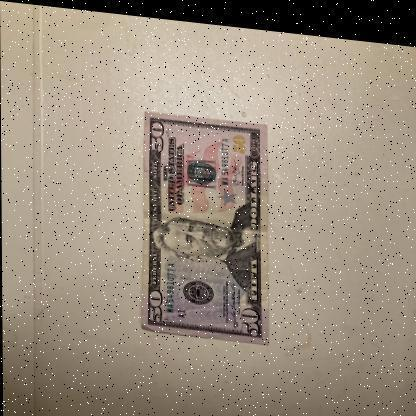fifty-front: (140, 106, 269, 339)
